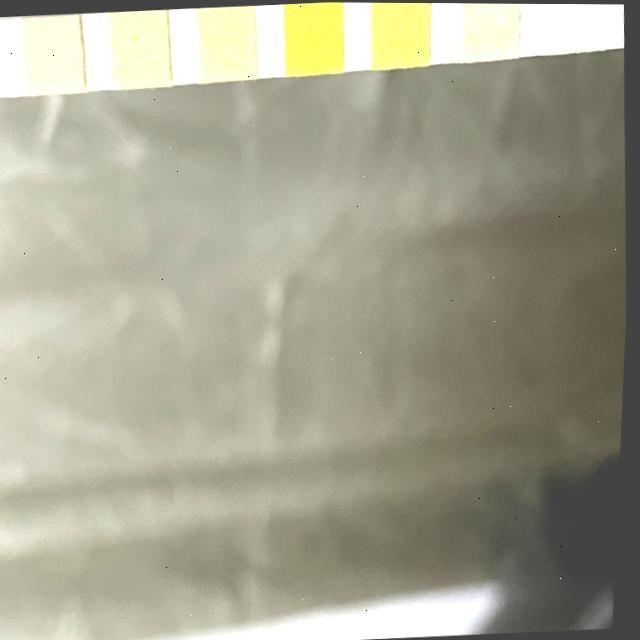Bilirubin: (544, 3, 609, 48)
Blood: (282, 2, 345, 71)
Ketone: (456, 3, 523, 59)
Protein: (110, 9, 169, 87)
SpGravity: (370, 2, 431, 66)
Urobilinogen: (23, 17, 83, 92)
pH: (196, 4, 258, 80)
